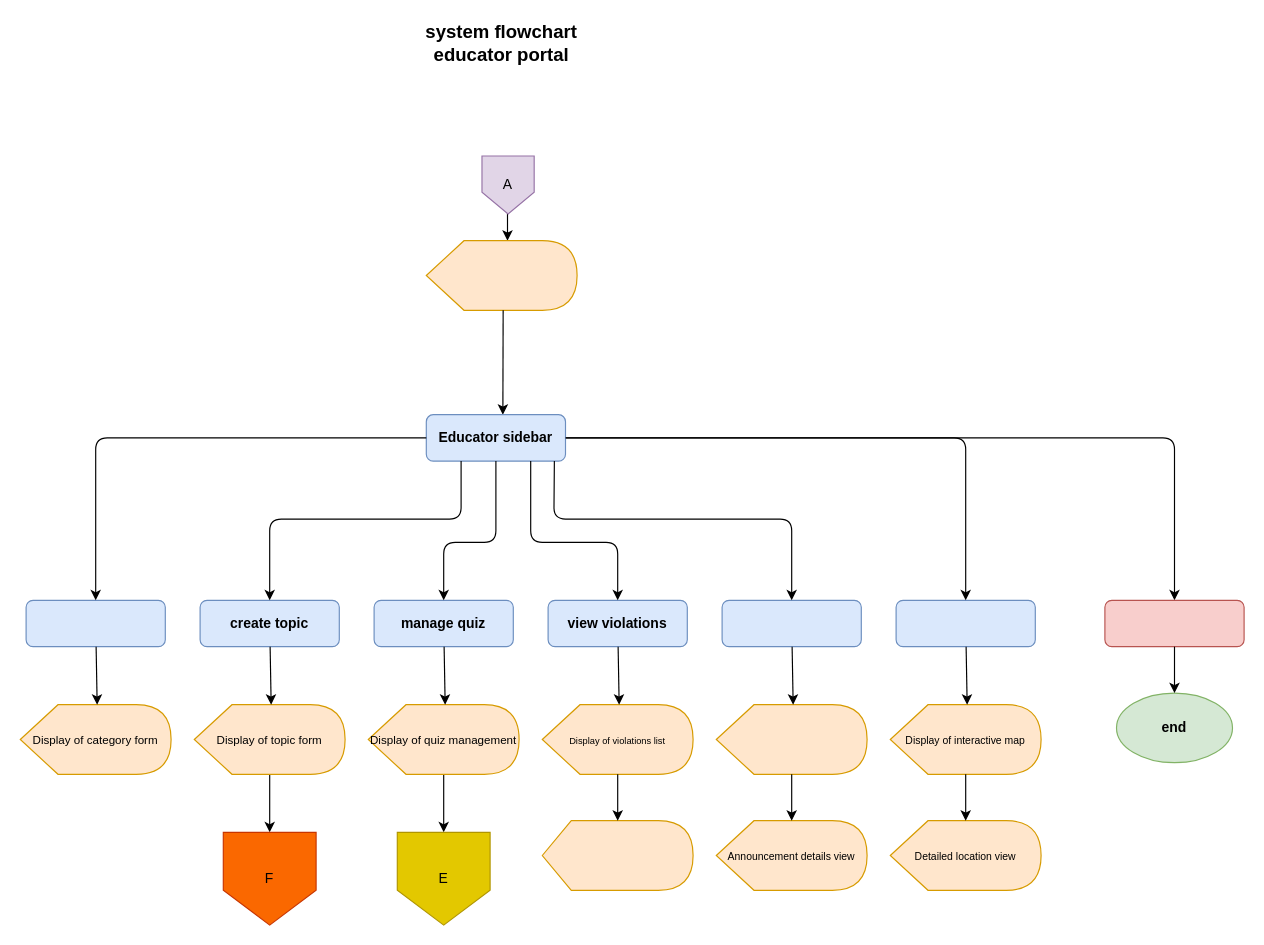
The diagram is 1264 pixels wide and 945 high, and some of its shapes have lost their labels. The shapes that lost their labels are listed below. From the top down, each one's centre as x and y in pixels, then its label:
the point at 501,275: Display of educator dashboard
the point at 95,623: create category
the point at 791,623: view announcements
the point at 965,623: view map
the point at 1174,623: logout
the point at 791,739: Display of announcements list
the point at 617,855: Display of Violation details view
